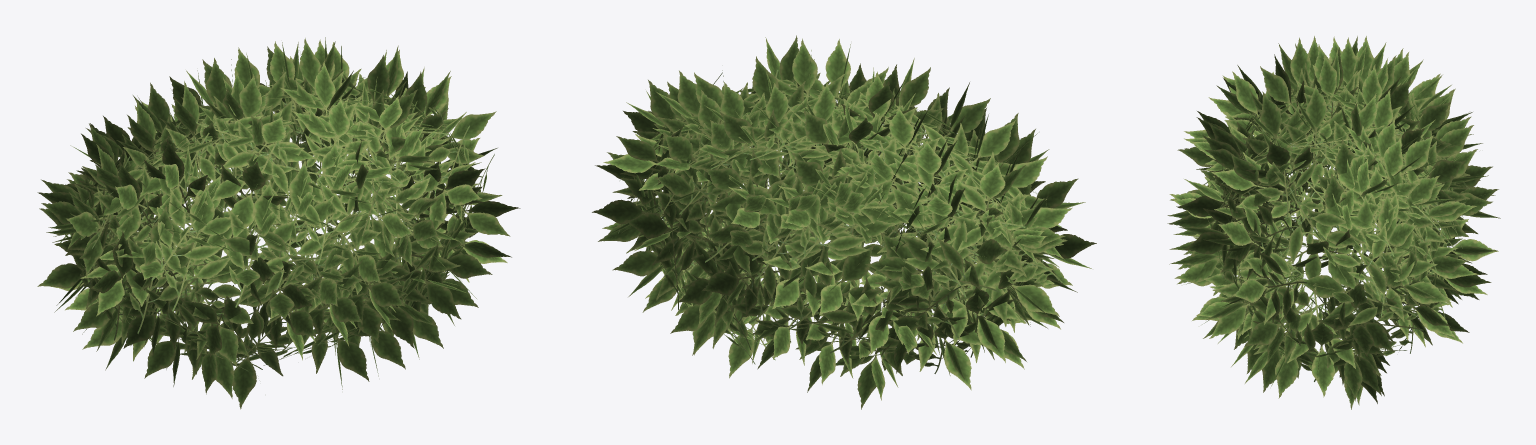
Rendered from YggLeavesBush.FBX.
The picture shows the model from 3 angles, left to right: view 1: azimuth 30°, elevation 25°; view 2: azimuth 150°, elevation 25°; view 3: azimuth 270°, elevation 25°; orthographic projection. The views are drawn at different scales.
Parts seen in each view (by area): view 1: YggLeafPlane005; view 2: YggLeafPlane005; view 3: YggLeafPlane005.
Part boxes in pixels (x1,y1,x2,y2): YggLeafPlane005: (37,37,520,409); YggLeafPlane005: (592,35,1096,409); YggLeafPlane005: (1167,36,1500,409).
Size of the model in its own units: 50.35 by 34.76 by 35.57.
